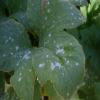Squash Powdery mildew leaf: (1, 0, 86, 99)
